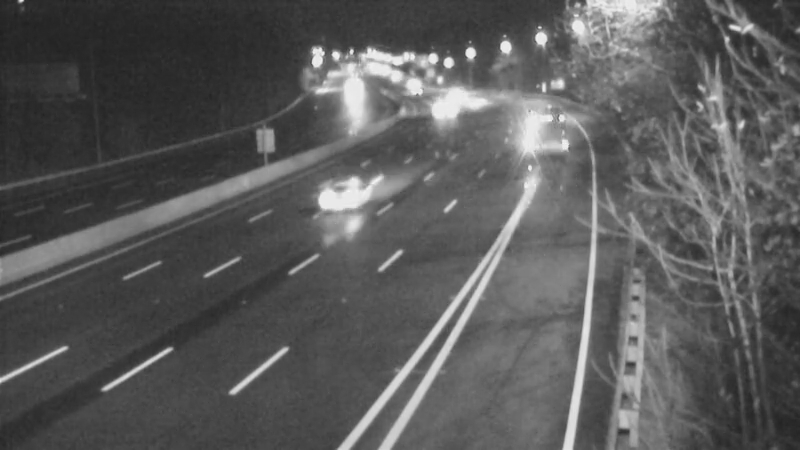vehicle: (305, 153, 385, 233), (370, 52, 420, 102), (383, 58, 433, 108), (394, 69, 444, 119), (426, 70, 476, 120), (450, 75, 500, 125), (421, 83, 471, 133), (525, 105, 575, 155), (329, 70, 379, 120)
